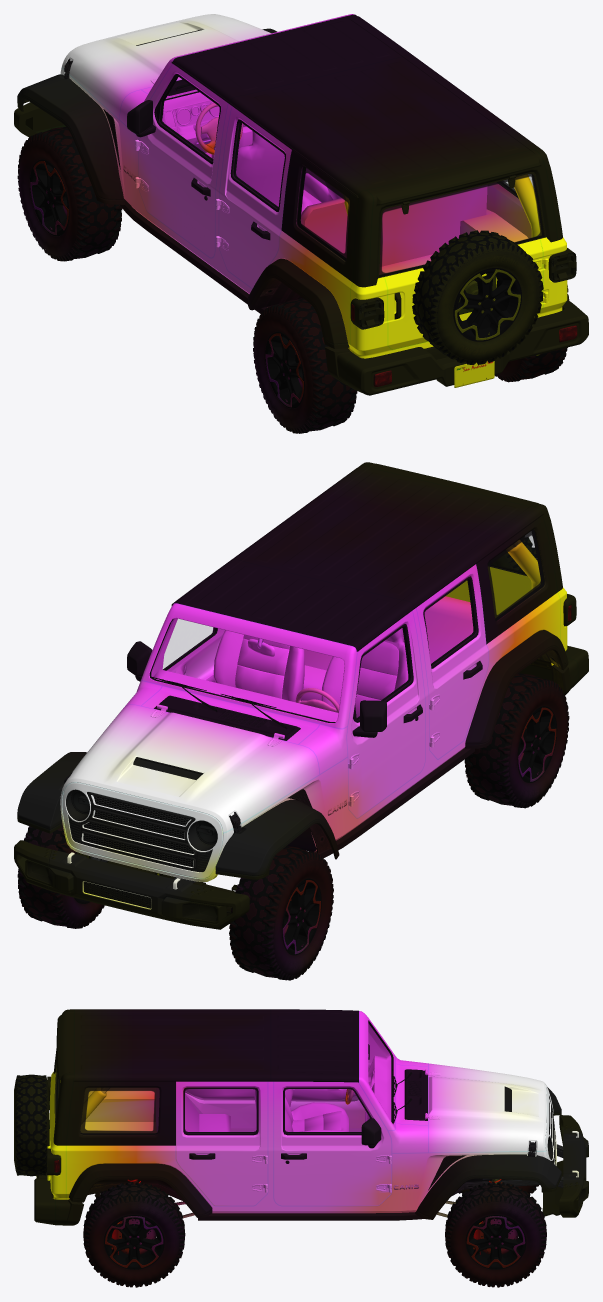
The model's file is terminus.glb.
The picture shows the model from 3 angles, top to bottom: view 1: azimuth 30°, elevation 25°; view 2: azimuth 150°, elevation 25°; view 3: azimuth 270°, elevation 25°; orthographic projection. The views are drawn at different scales.
Visible parts, largest first — view 1: extra_1, chassis, misc_l, bodyshell, door_dside_f, wheel_lr, wheel_lf, windscreen_r, bonnet, bumper_r, door_dside_r, wing_lf (+11 smaller); view 2: extra_1, bodyshell, bonnet, chassis, wheel_lf, misc_g, door_dside_f, wheel_lr, misc_m, door_dside_r, wing_lf, misc_a (+11 smaller); view 3: extra_1, bodyshell, door_pside_f, bonnet, chassis, wheel_rf, wheel_rr, door_pside_r, wing_rf, misc_e, misc_l, window_rf (+11 smaller).
Part boxes in pixels (x1,y1,x2,y2): extra_1: (171, 14, 562, 287); chassis: (64, 63, 576, 329); misc_l: (412, 230, 543, 364); bodyshell: (60, 14, 576, 358); door_dside_f: (127, 64, 228, 257); wheel_lr: (253, 298, 357, 433); wheel_lf: (17, 127, 122, 261); windscreen_r: (379, 174, 544, 277); bonnet: (62, 14, 271, 119); bumper_r: (346, 306, 588, 395); door_dside_r: (216, 106, 291, 288); wing_lf: (17, 74, 124, 204); extra_1: (171, 462, 562, 651); bodyshell: (60, 587, 576, 881); bonnet: (61, 704, 319, 832); chassis: (64, 540, 571, 883); wheel_lf: (229, 846, 333, 980); misc_g: (62, 782, 222, 878); door_dside_f: (346, 610, 425, 818); wheel_lr: (464, 672, 569, 808); misc_m: (25, 849, 226, 925); door_dside_r: (416, 564, 488, 759); wing_lf: (215, 799, 339, 879); misc_a: (465, 630, 568, 748); extra_1: (53, 1009, 358, 1145); bodyshell: (47, 1011, 556, 1213); door_pside_f: (273, 1081, 391, 1205); bonnet: (425, 1063, 546, 1152); chassis: (47, 1020, 563, 1217); wheel_rf: (445, 1182, 546, 1287); wheel_rr: (83, 1182, 185, 1287); door_pside_r: (176, 1081, 267, 1205); wing_rf: (415, 1154, 561, 1219); misc_e: (80, 1087, 159, 1134); misc_l: (14, 1074, 49, 1176); window_rf: (285, 1089, 368, 1131).
Size of the model in its own units: 1.93 by 1.84 by 4.83.
21 materials, 16 textured.
